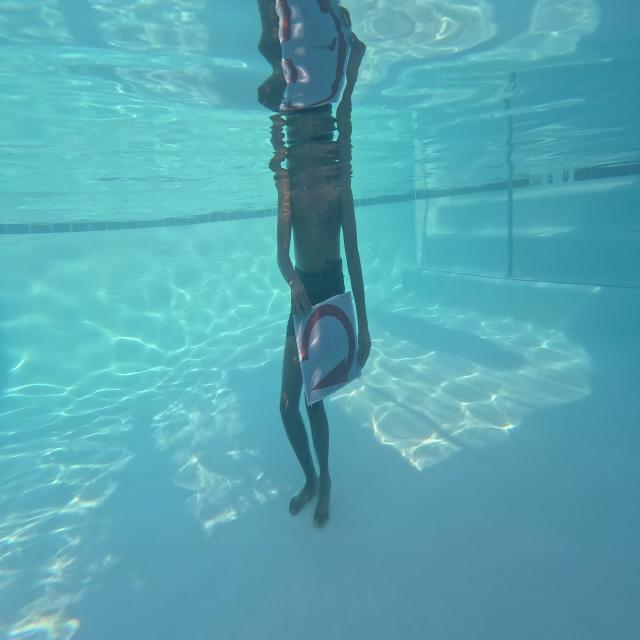red_side: (283, 283, 372, 421)
